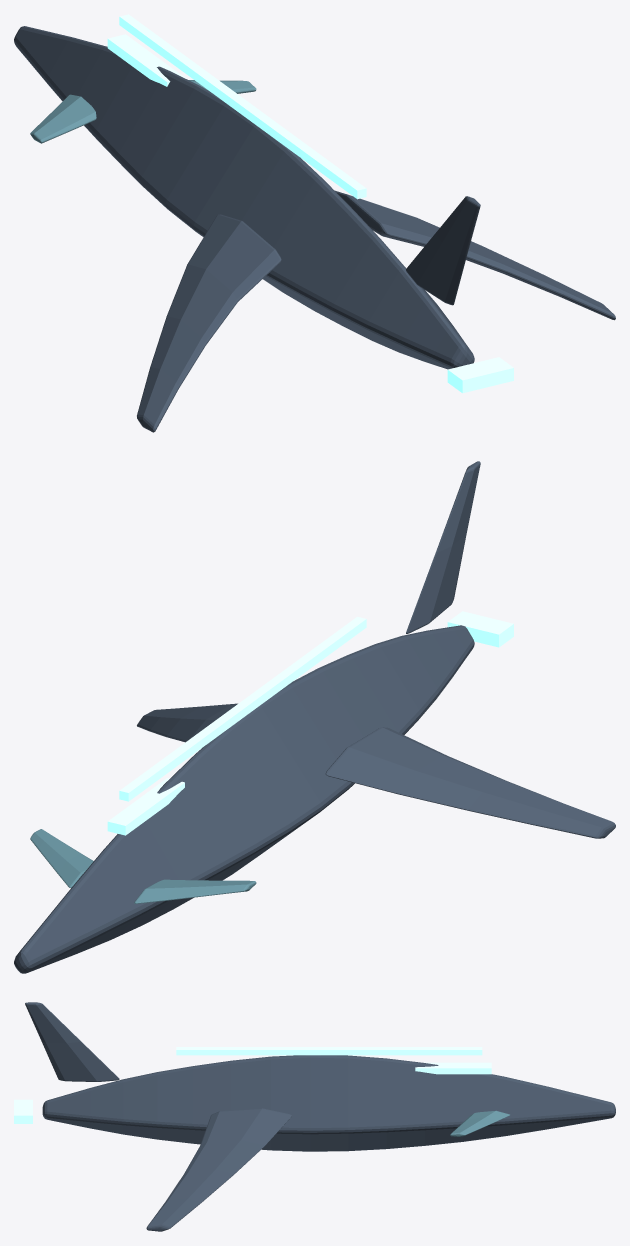
The model's file is shadur-kai-scout.glb.
3 renders of one model, top to bottom at view 1: azimuth 30°, elevation 25°; view 2: azimuth 150°, elevation 25°; view 3: azimuth 270°, elevation 25°, orthographic. The views are drawn at different scales.
Visible parts, largest first — view 1: hull, wing.002, wing.003, Cube, fin, wing, Cube.002, Cube.001; view 2: hull, wing.002, Cube, fin, wing.003, wing, wing.001, Cube.001, Cube.002; view 3: hull, wing.003, fin, Cube, Cube.001, wing.001, Cube.002.
Boxes of the visible parts, bbox=[...] form: hull: bbox=[14, 26, 474, 369]; wing.002: bbox=[137, 214, 281, 432]; wing.003: bbox=[334, 190, 615, 320]; Cube: bbox=[119, 14, 366, 199]; fin: bbox=[406, 196, 480, 305]; wing: bbox=[30, 94, 96, 143]; Cube.002: bbox=[447, 357, 513, 393]; Cube.001: bbox=[107, 34, 184, 86]; hull: bbox=[14, 625, 474, 973]; wing.002: bbox=[325, 727, 615, 838]; Cube: bbox=[119, 616, 366, 801]; fin: bbox=[406, 461, 480, 633]; wing.003: bbox=[137, 703, 237, 742]; wing: bbox=[134, 879, 256, 903]; wing.001: bbox=[30, 829, 93, 887]; Cube.001: bbox=[107, 778, 184, 835]; Cube.002: bbox=[447, 611, 513, 647]; hull: bbox=[42, 1055, 615, 1151]; wing.003: bbox=[146, 1108, 291, 1231]; fin: bbox=[25, 1002, 119, 1081]; Cube: bbox=[176, 1047, 482, 1055]; Cube.001: bbox=[415, 1062, 491, 1074]; wing.001: bbox=[450, 1110, 509, 1136]; Cube.002: bbox=[14, 1099, 32, 1123].
Size of the model in its own units: 1.8 by 0.9056 by 3.15.
